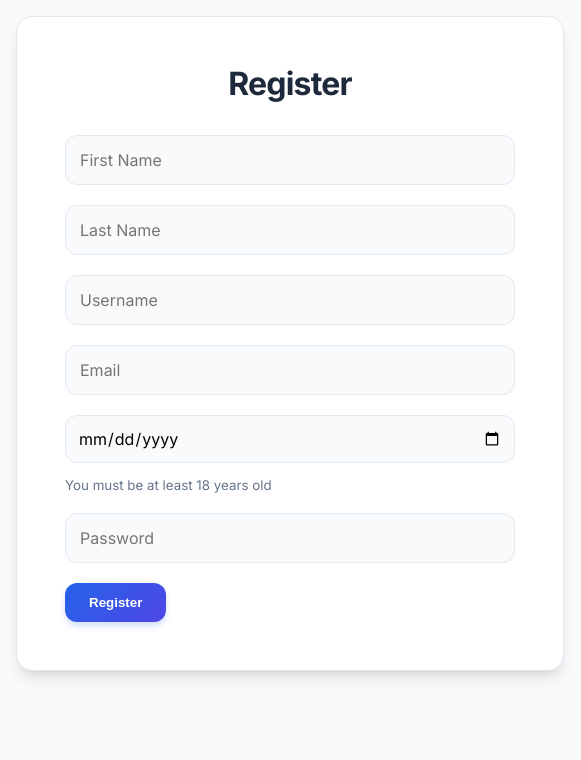
Scenario: Register Component › handles backend registration errors
The width and height of the screenshot is (581, 760).
Fill all valid data
In the field with placeholder "First Name": (290, 160) top-left (65, 135), bottom-right (515, 185), type "John"
In the field with placeholder "Last Name": (290, 230) top-left (65, 205), bottom-right (515, 255), type "Doe"
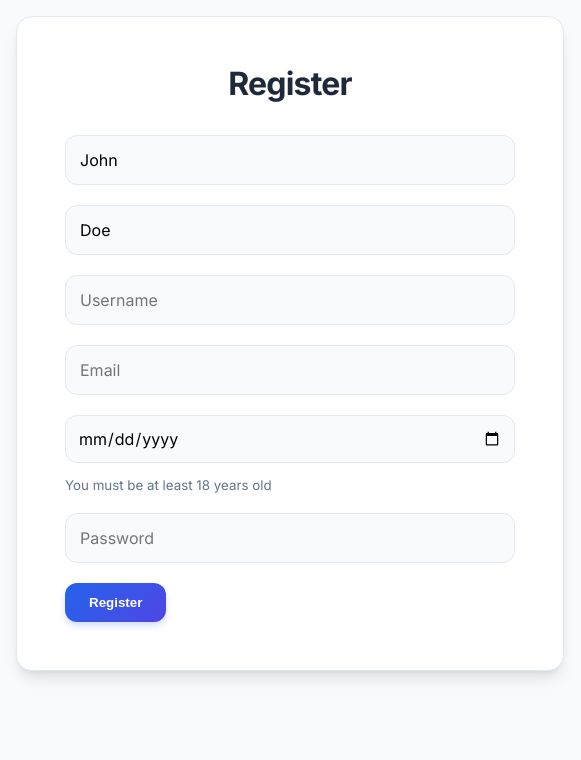
In the field with placeholder "Username": (290, 300) top-left (65, 275), bottom-right (515, 325), type "existing_user"
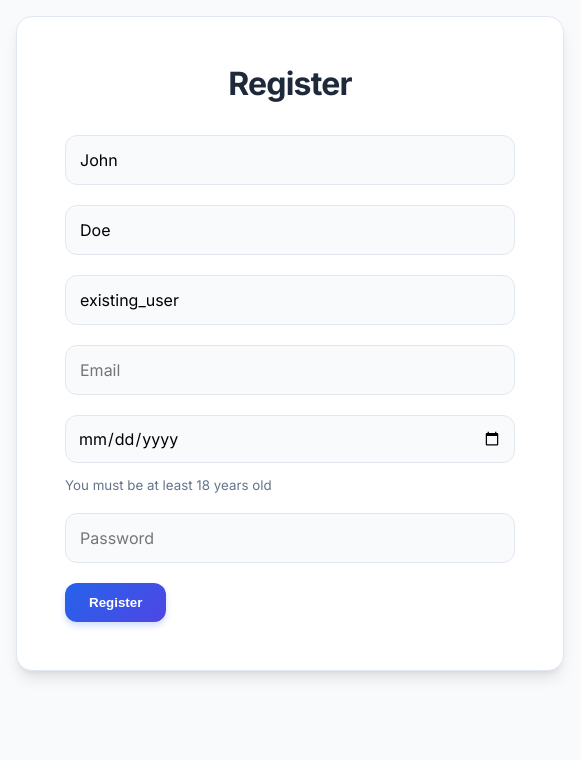
In the field with placeholder "Email": (290, 370) top-left (65, 345), bottom-right (515, 395), type "john@example.com"
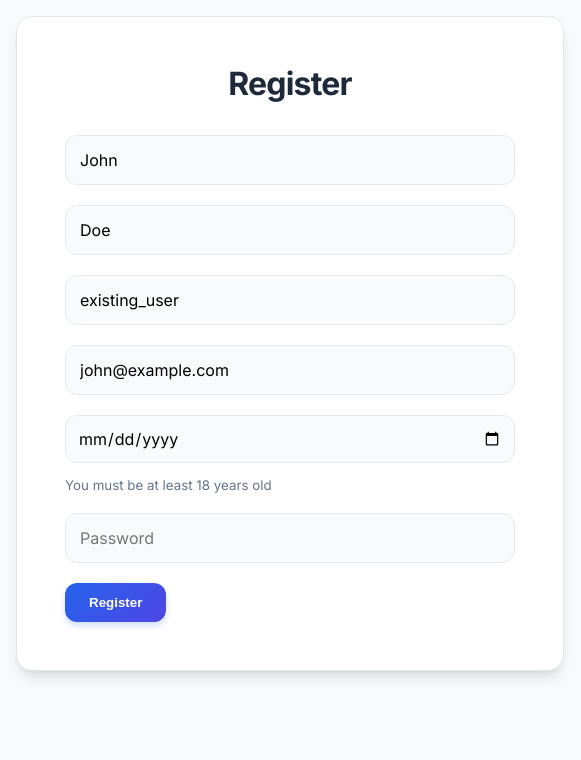
In the date field with placeholder "Date of Birth": (290, 439) top-left (65, 415), bottom-right (515, 463), type "2000-01-01"
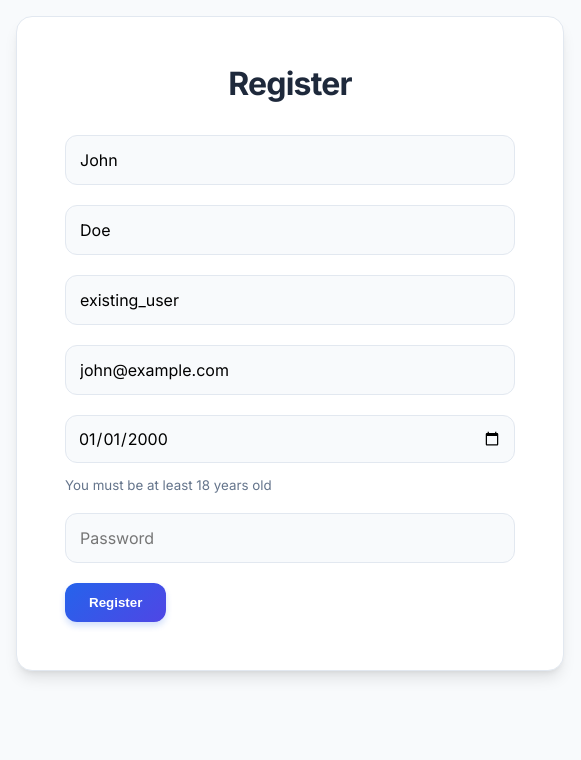
In the password field with placeholder "Password": (290, 538) top-left (65, 513), bottom-right (515, 563), type "password123"
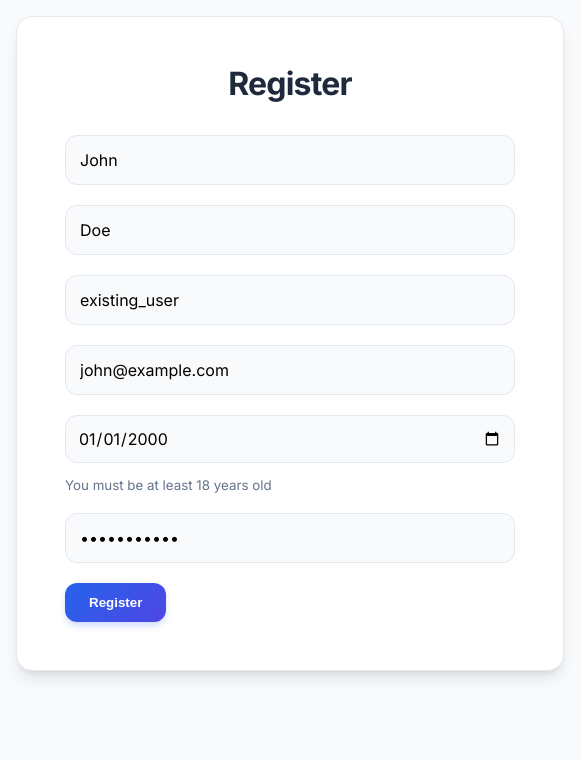
Click the button "Register": (116, 602) top-left (65, 583), bottom-right (166, 622)
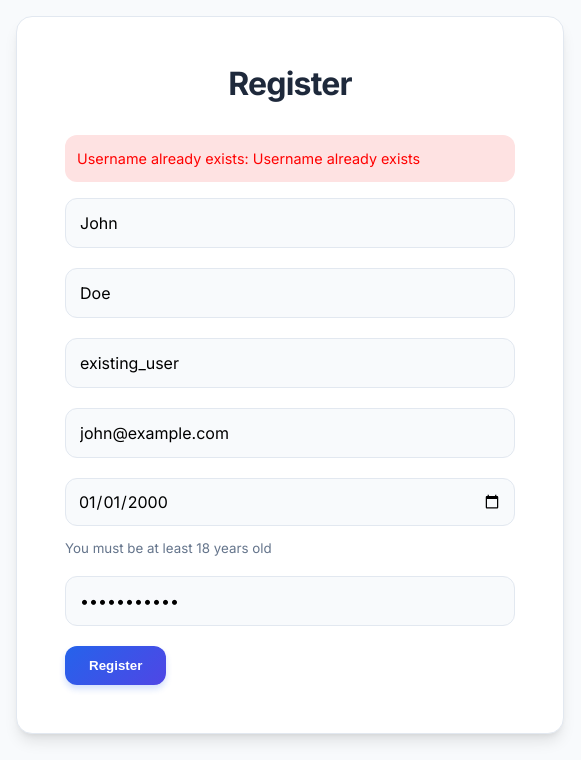
Now the text "Username already exists: Username already exists" is shown, box top-left (65, 135), bottom-right (515, 182)
